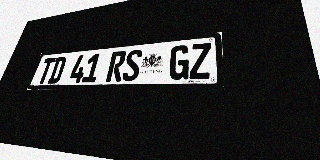1: (81, 53, 102, 83)
4: (68, 54, 89, 83)
D: (47, 56, 67, 84)
G: (168, 44, 190, 80)
R: (106, 51, 127, 82)
S: (121, 49, 143, 81)
T: (36, 58, 56, 84)
Z: (189, 42, 211, 79)
